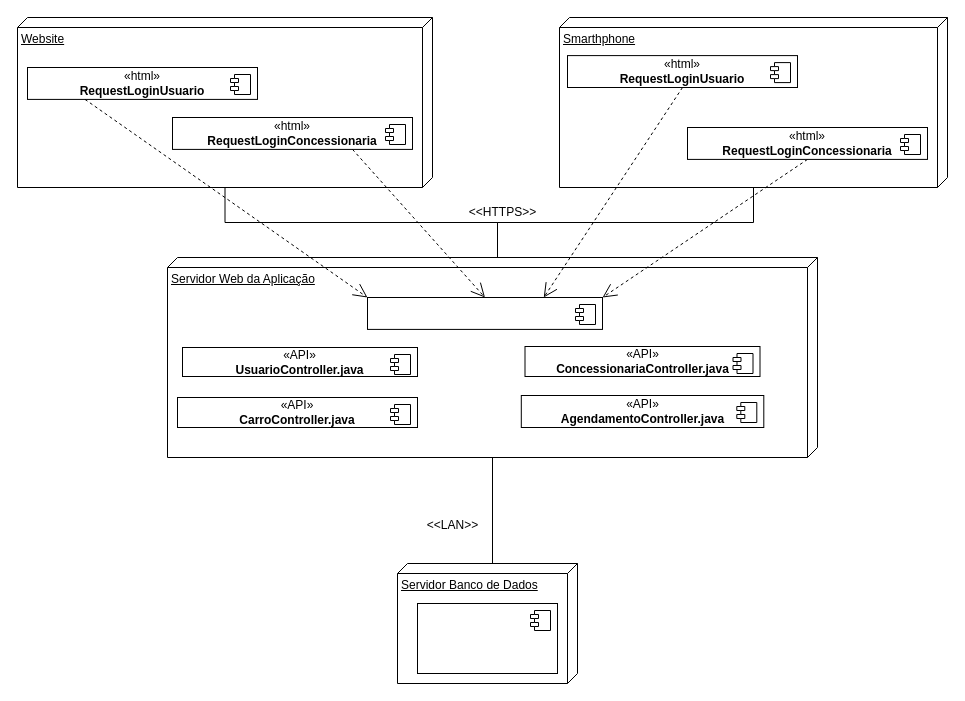
Image size: 965x701. Some labels were removed from this diagram. Here are the shapes that lost their labels. From the top down, the centre of each, then its label:
At [484,312]: "«API» AutenticacaoController.java".
At [487,638]: "«DataBase» MySQL DB".
